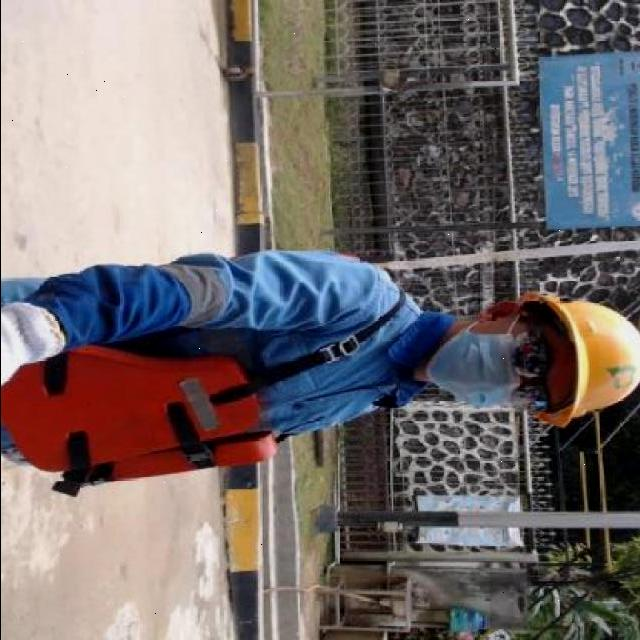Helmet: (525, 290, 640, 426)
Vest: (0, 256, 424, 498)
